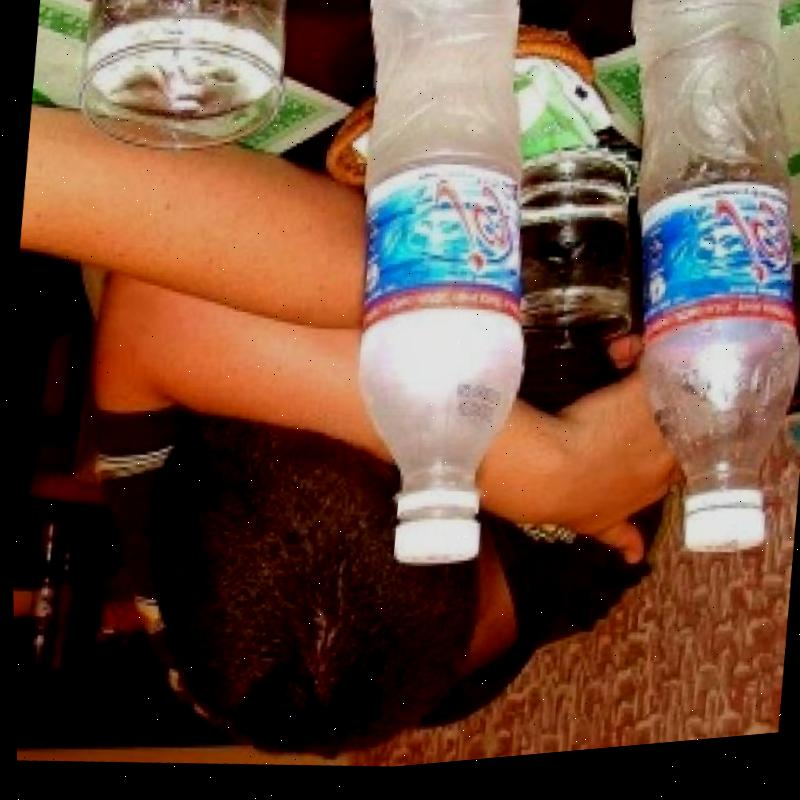botella: (299, 0, 541, 591), (571, 0, 800, 581)
